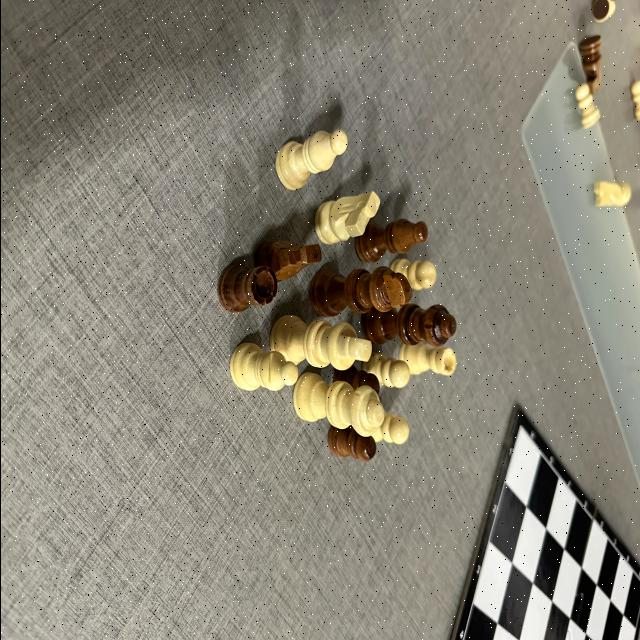Black-Bishop: (353, 218, 427, 264)
Black-King: (308, 266, 412, 319)
Black-Knight: (252, 239, 321, 283), (578, 34, 600, 96)
Black-Pawn: (327, 426, 375, 462), (333, 365, 379, 395)
Black-Queen: (360, 304, 456, 346)
Black-Rook: (216, 264, 276, 314)
White-Bishop: (274, 130, 348, 192), (228, 342, 297, 392)
White-King: (268, 314, 370, 370)
White-Knight: (314, 191, 379, 245), (592, 182, 630, 208)
White-Pawn: (361, 352, 408, 389), (388, 258, 436, 292), (574, 84, 600, 130), (377, 412, 408, 444)
White-Queen: (292, 372, 383, 438)
White-Rook: (398, 342, 455, 376)
